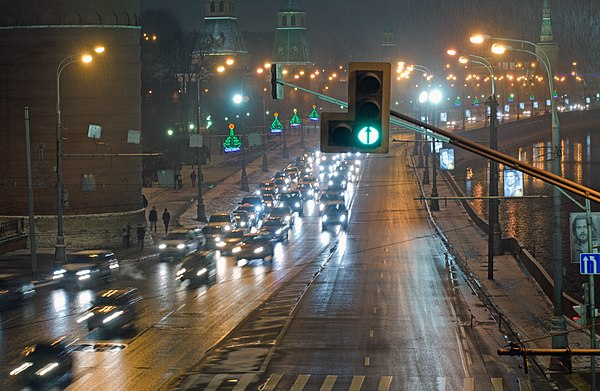tl: (324, 65, 388, 150)
